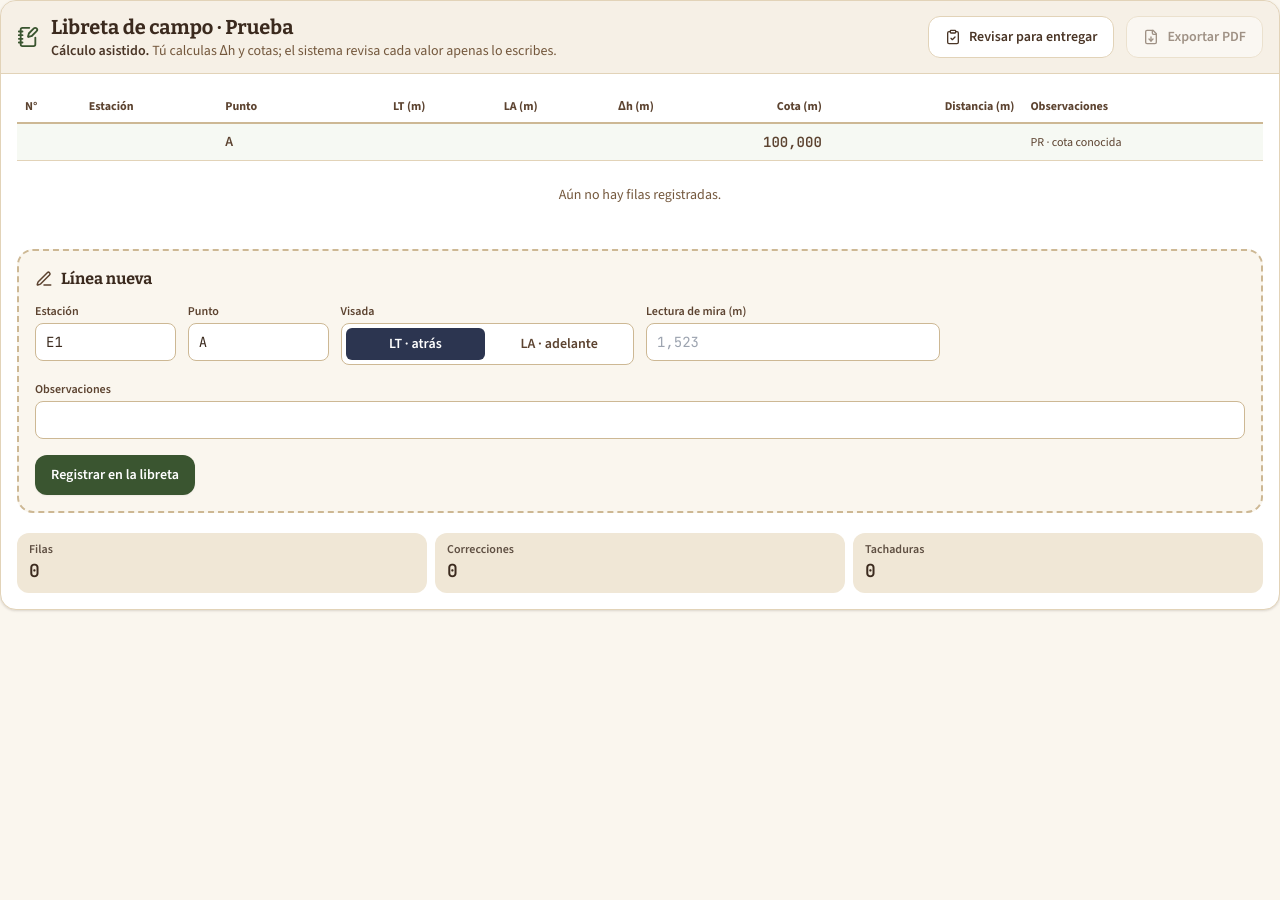
Test: modos de cálculo › asistido: revisa el Δh apenas se escribe
The width and height of the screenshot is (1280, 900).
Type "1,500" into the field labelled "Lectura de mira (m)".
click(793, 342); type("1,500")  # box left=646, top=323, right=940, bottom=361
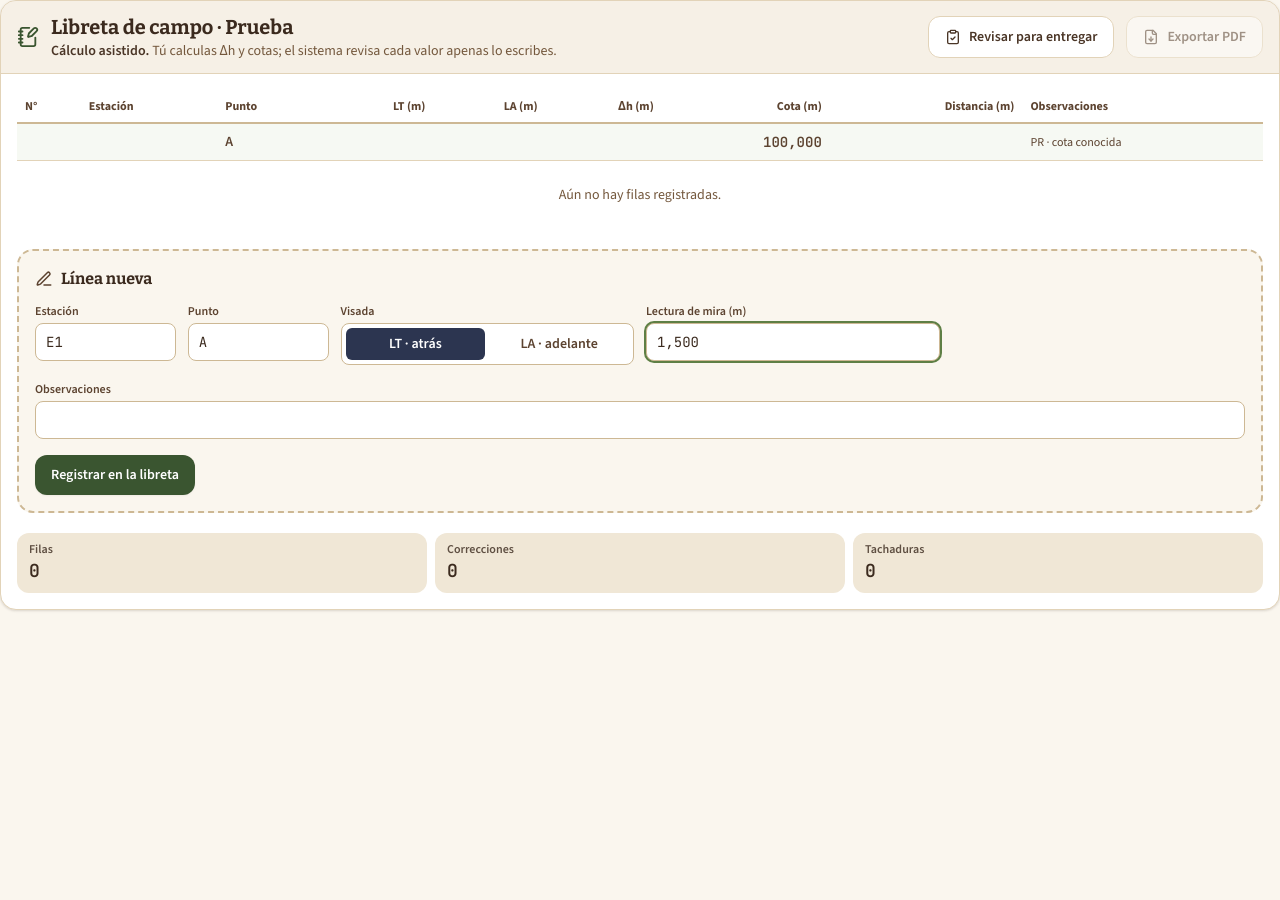
Click the button "Registrar en la libreta".
click(115, 475)  # box left=35, top=455, right=195, bottom=495
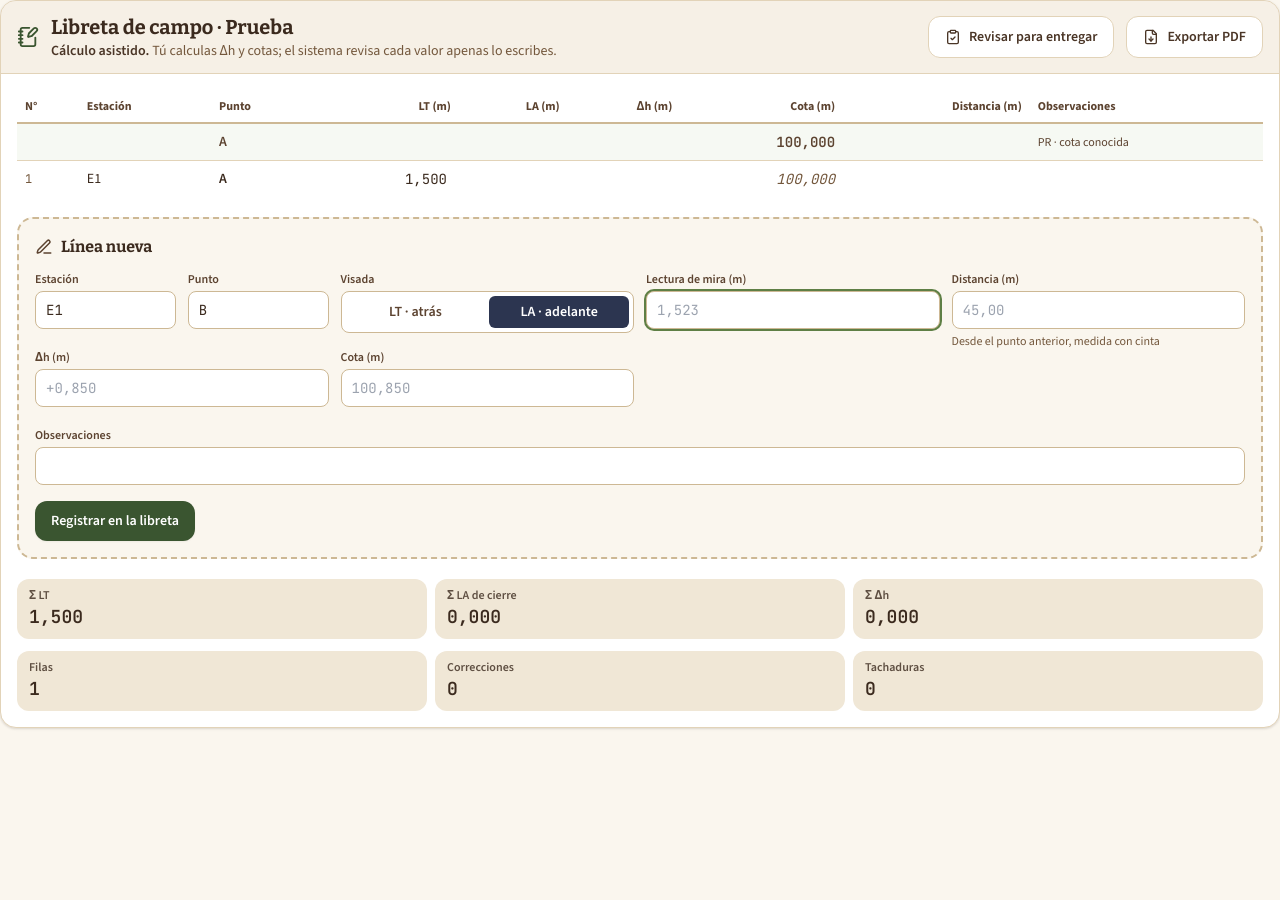
Type "0,650" into the field labelled "Lectura de mira (m)".
click(793, 310); type("0,650")  # box left=646, top=291, right=940, bottom=329
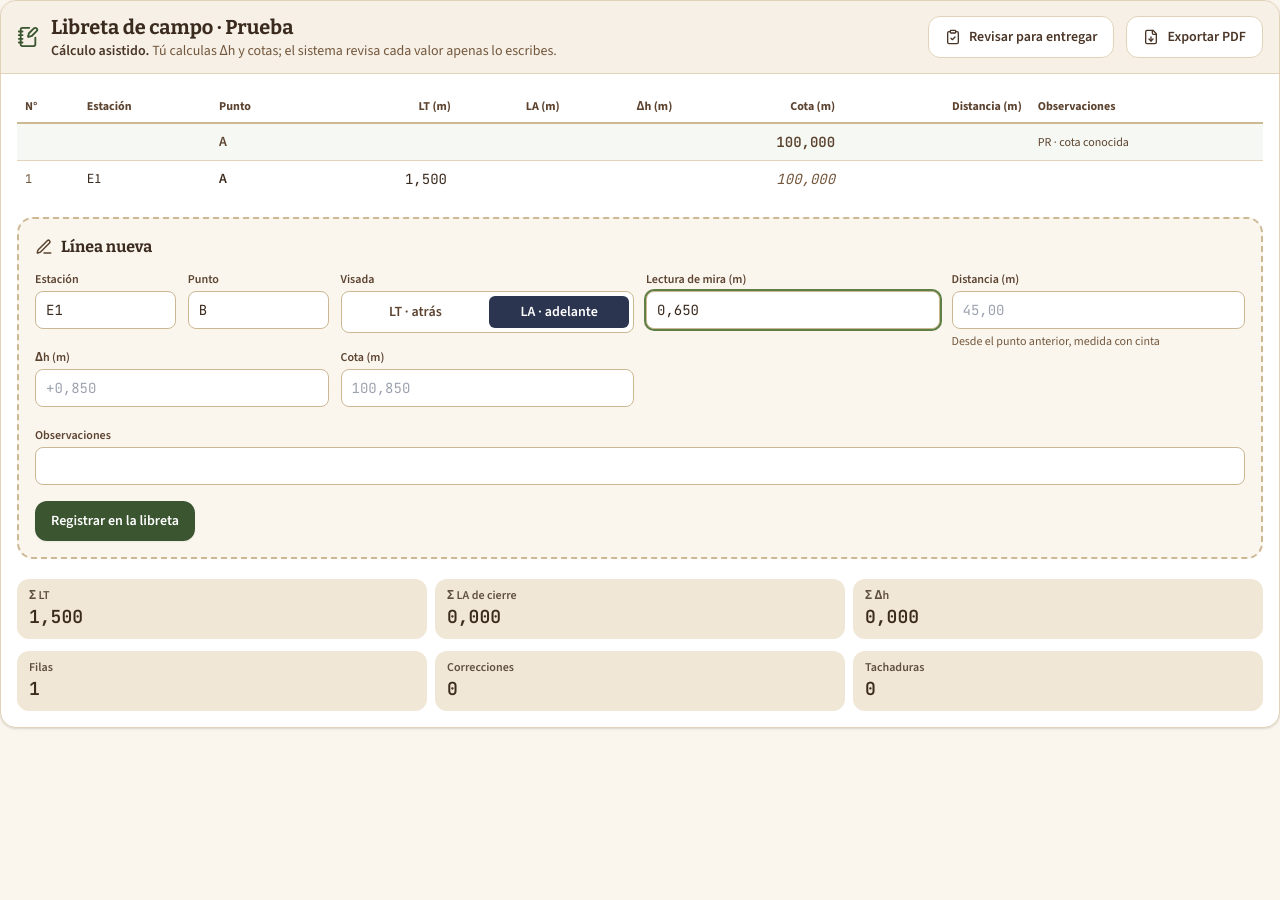
Type "0,800" into the field labelled "Δh (m)".
click(182, 388); type("0,800")  # box left=35, top=369, right=328, bottom=407
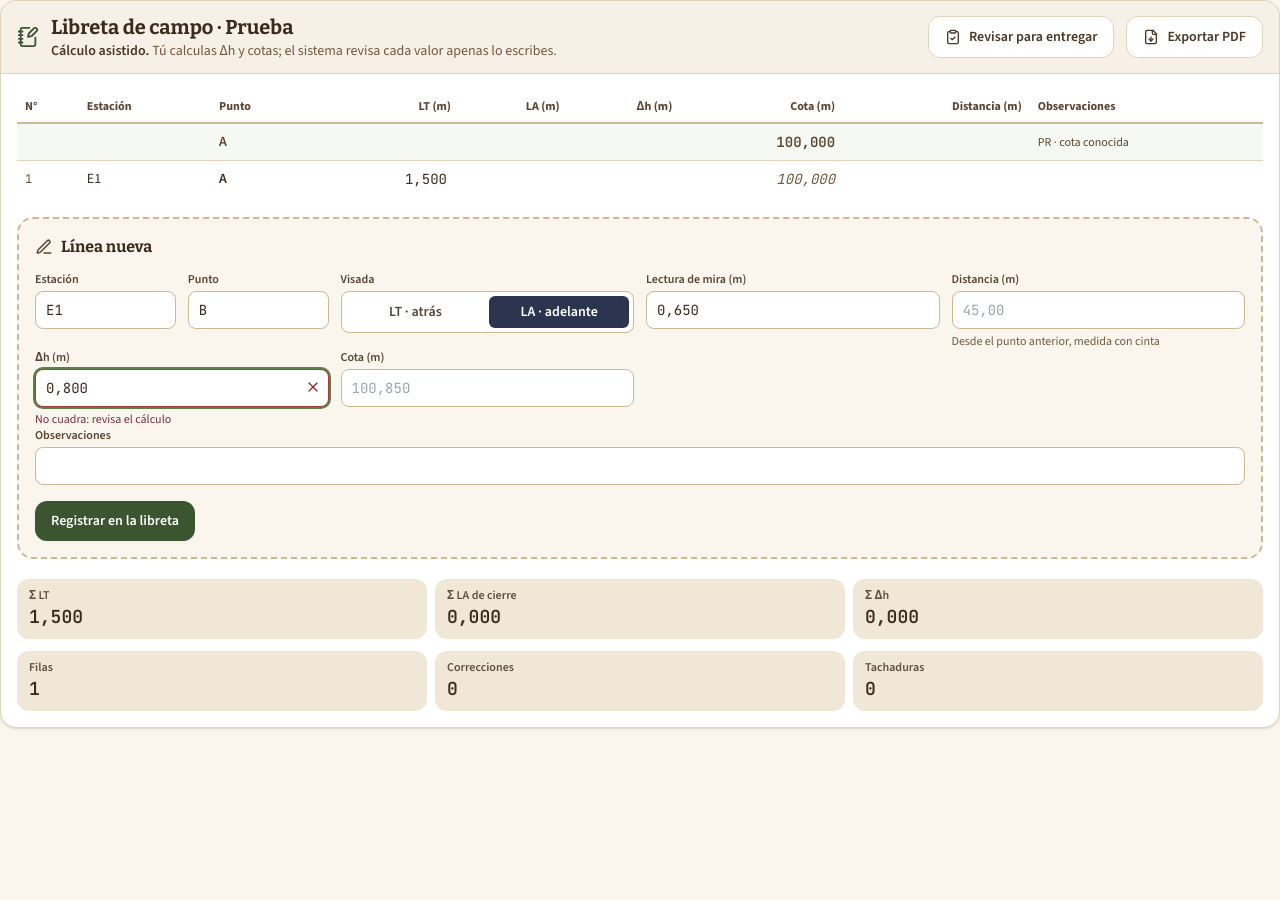
Result: the text "No cuadra: revisa el cálculo" is shown at left=35, top=411, right=171, bottom=427
Replace the text in the field labelled "Δh (m)" with "+0,850" at (182, 388), box left=35, top=369, right=328, bottom=407
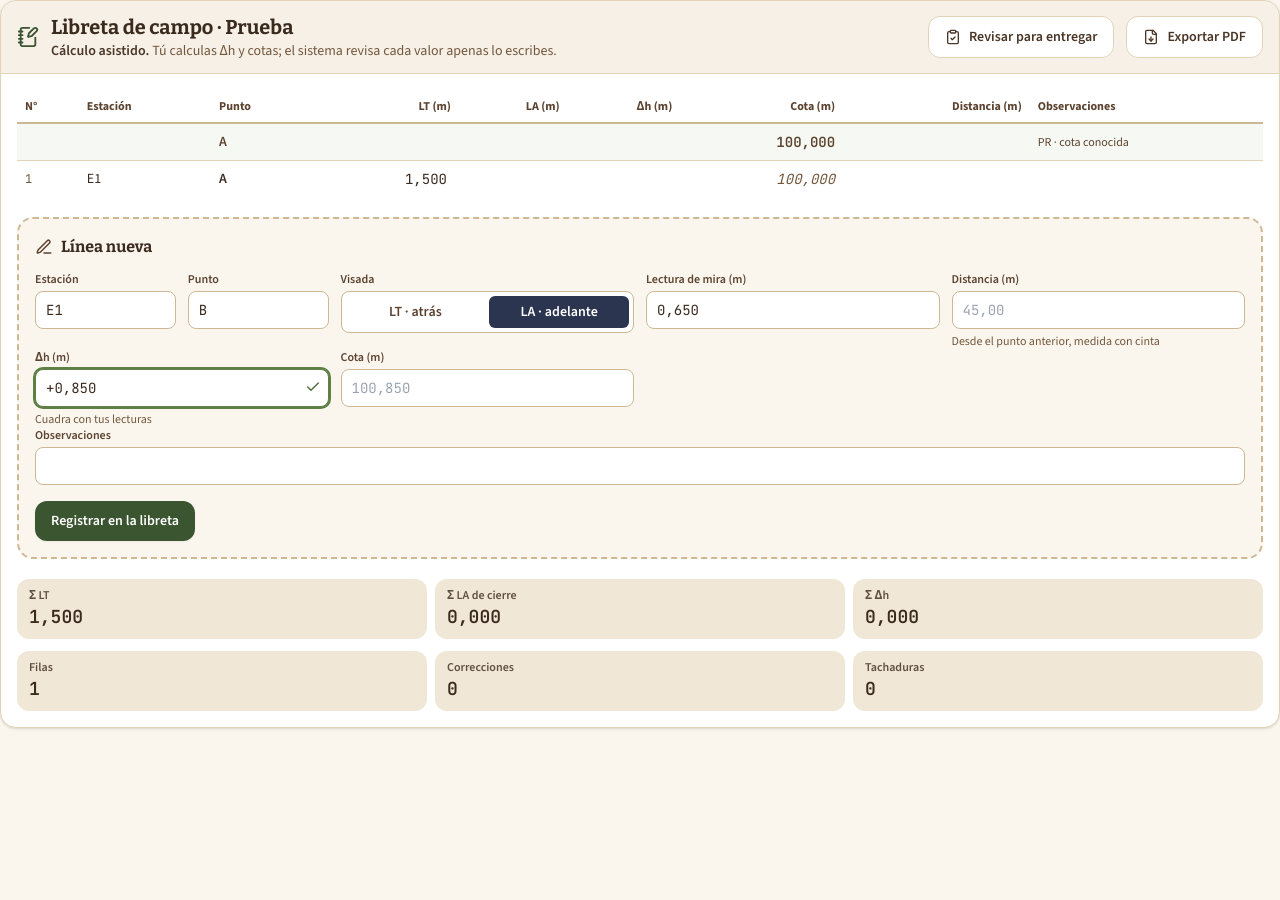
Result: the text "Cuadra con tus lecturas" is shown at left=35, top=411, right=152, bottom=427
